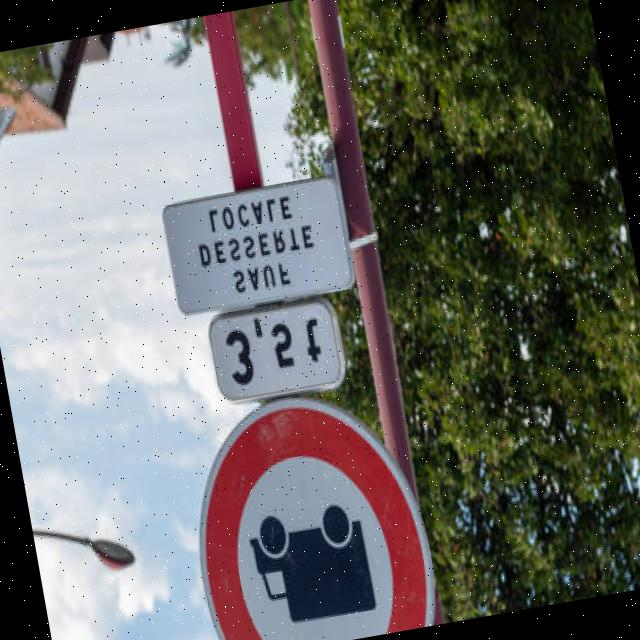do_not_enter: (162, 376, 437, 640)
